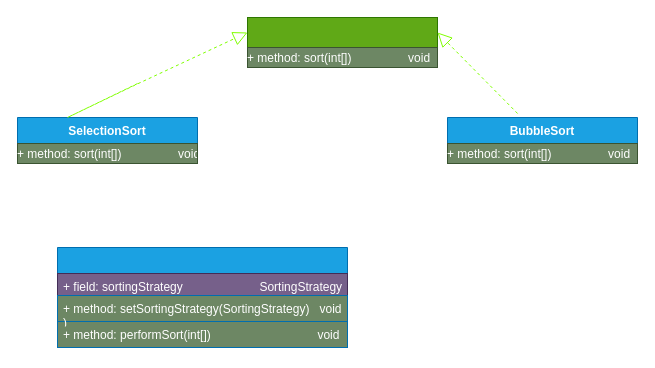
Image size: 655x368. Some labels were removed from this diagram. Each missing label, with the box of its shape:
Sorter: (56, 246, 348, 296)
«interface» SortingStrategy: (246, 16, 438, 48)
